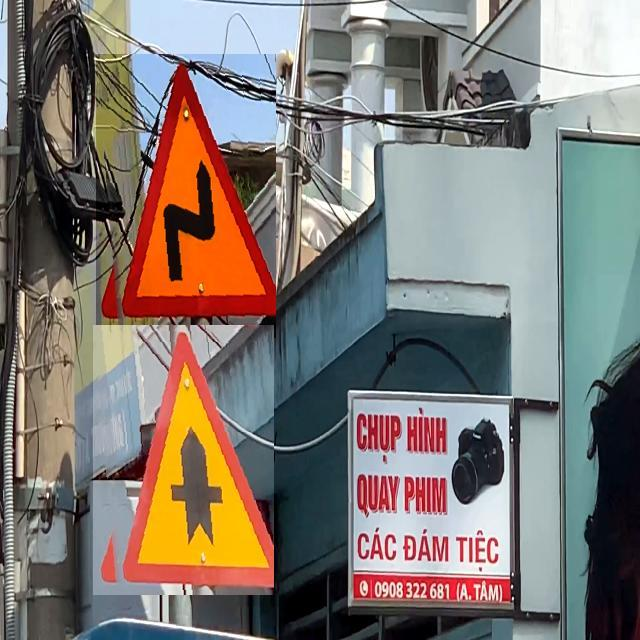W-202b: (96, 54, 276, 338)
W-207a: (93, 325, 274, 595)
